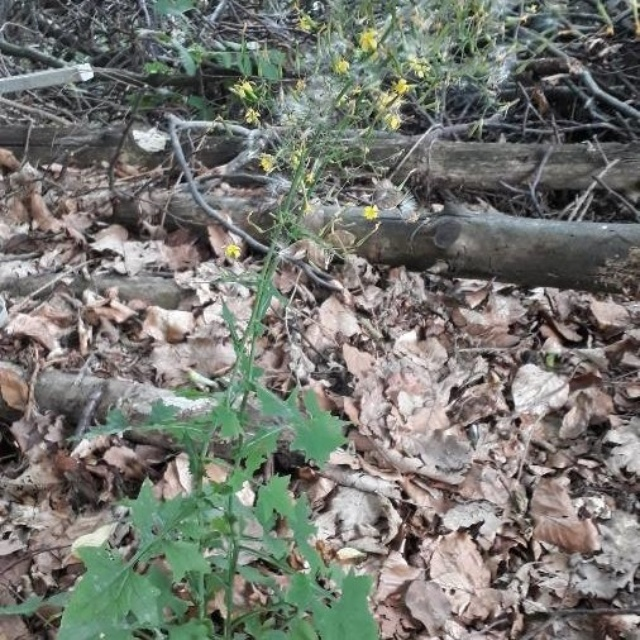obstacle: (104, 373, 358, 627)
